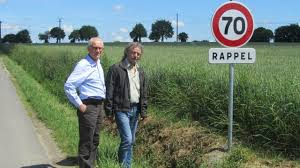Speed_limit_70km: (211, 1, 254, 49)
